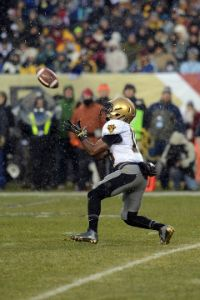futbol americano: (34, 67, 60, 88)
